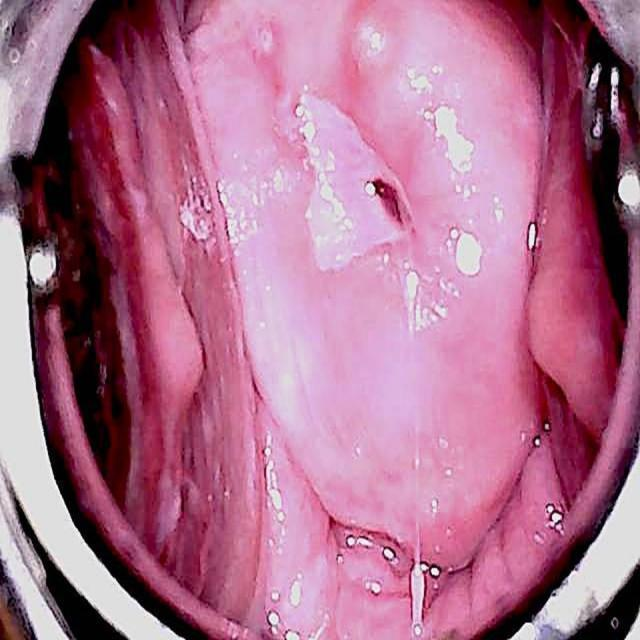cervical_lesion: (213, 9, 512, 348)
